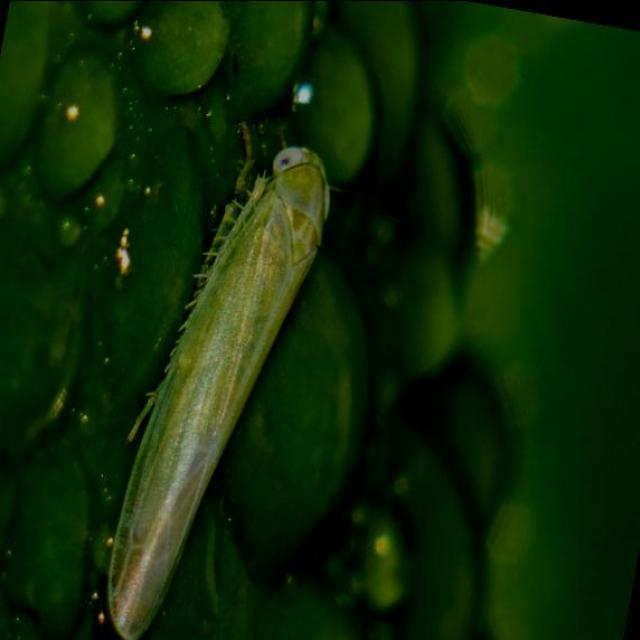green leaf hopper: (109, 147, 330, 640)
